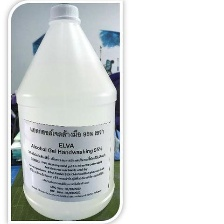cleaning_solution: (11, 2, 119, 223)
